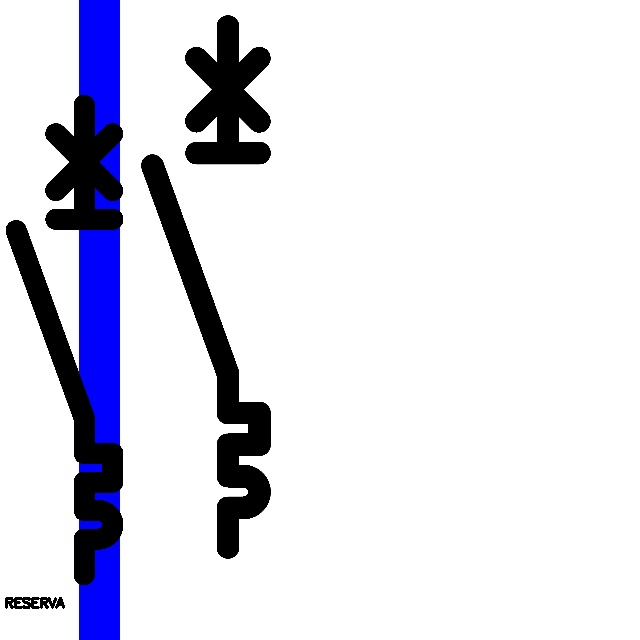interruptor_termomagnetico: (139, 13, 273, 561), (4, 93, 125, 587)
